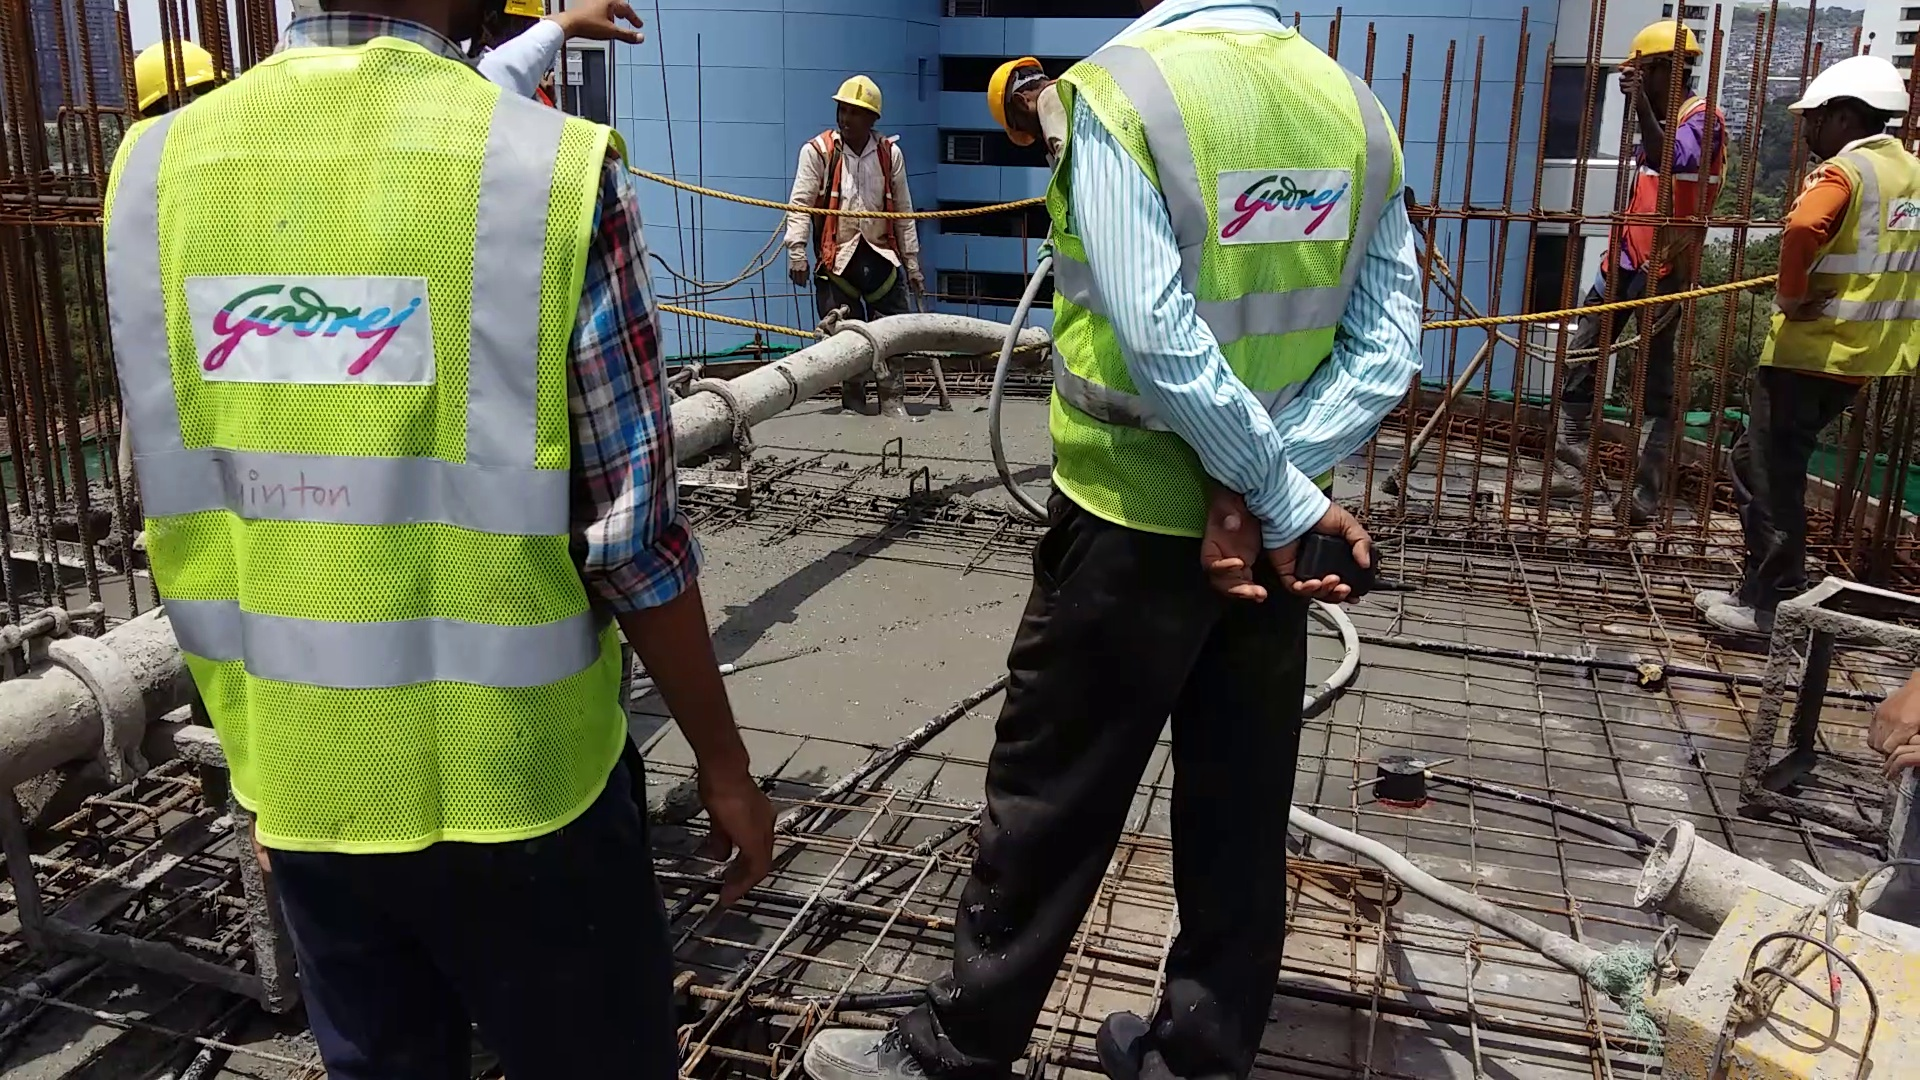SAFE: (1778, 58, 1920, 377), (802, 73, 907, 286)
